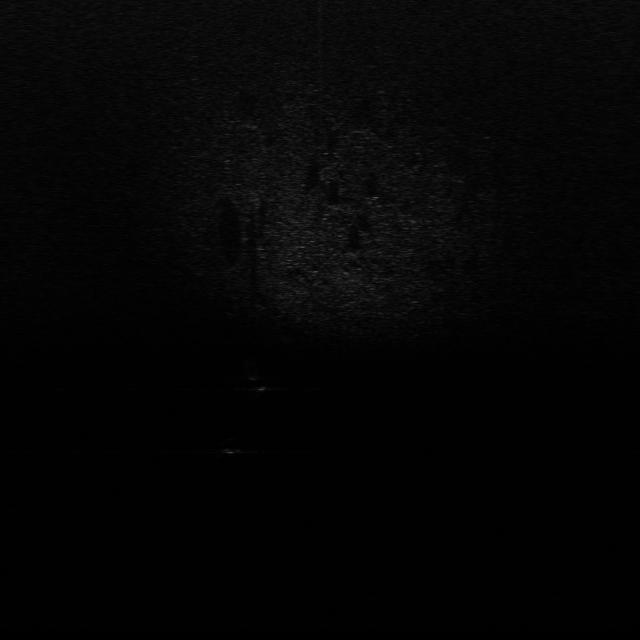ball: (220, 436, 244, 457)
human body: (246, 357, 270, 400)
